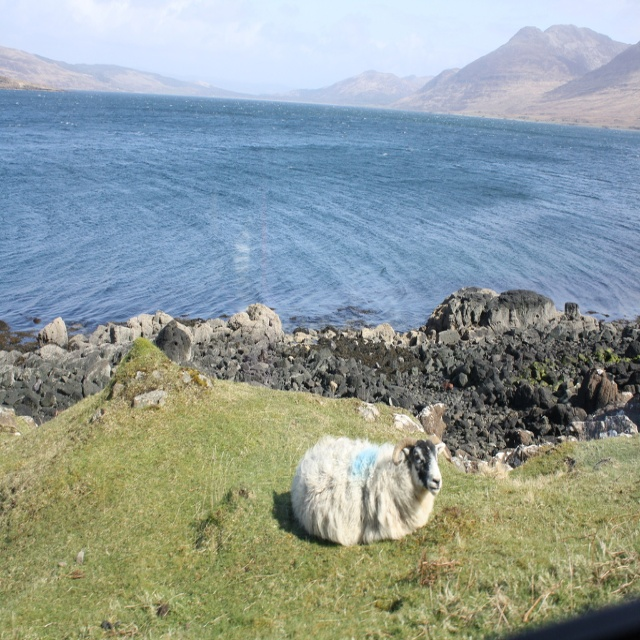Sheep: (288, 439, 444, 546)
